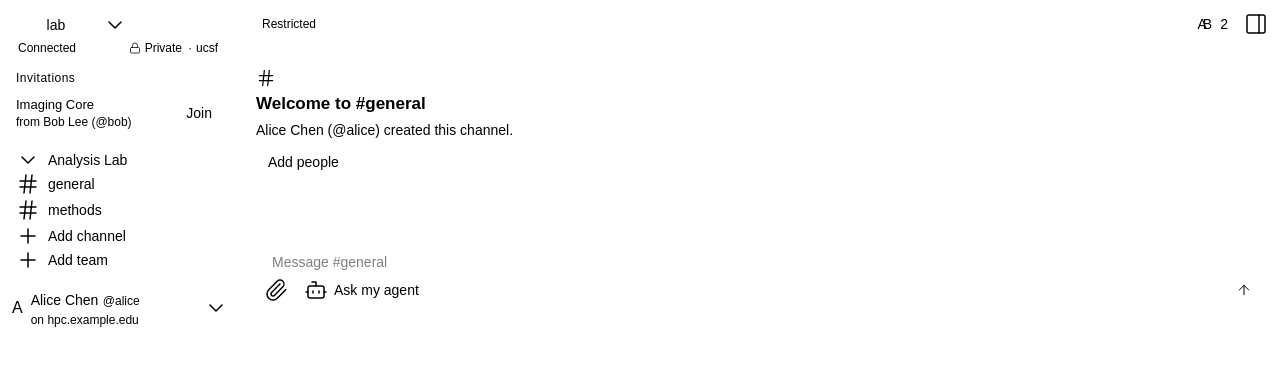
Test case: a send failure belongs to its channel and its draft (QA M5, R-4) › hides it in another channel, and brings it back with the draft
In the text box labelled "Message #general": [762, 262] box [272,246,1252,278], type "for #general"
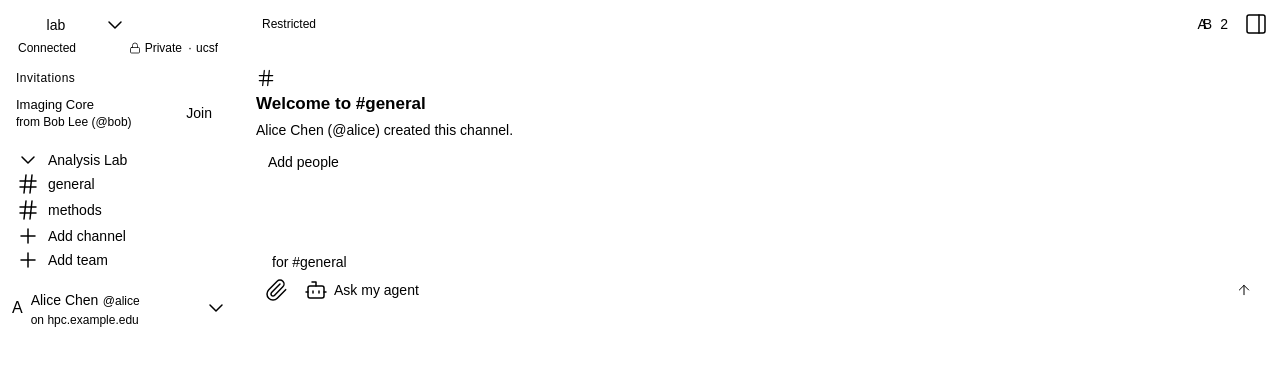
Click the button named "Send message": [1244, 290] box [1236,282,1252,298]
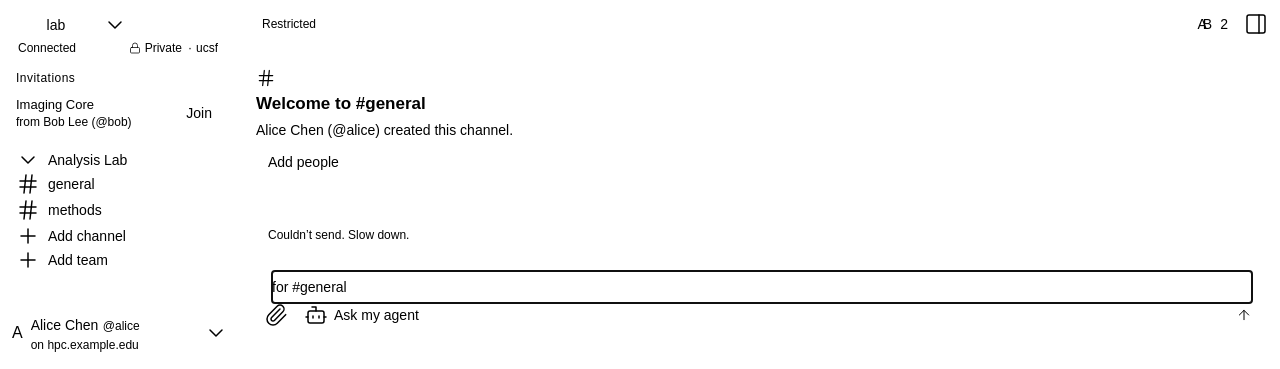
Expected: the text "Couldn’t send." is shown, [268,228,345,242]
Expected: the text "Slow down." is shown, [348,228,410,242]
